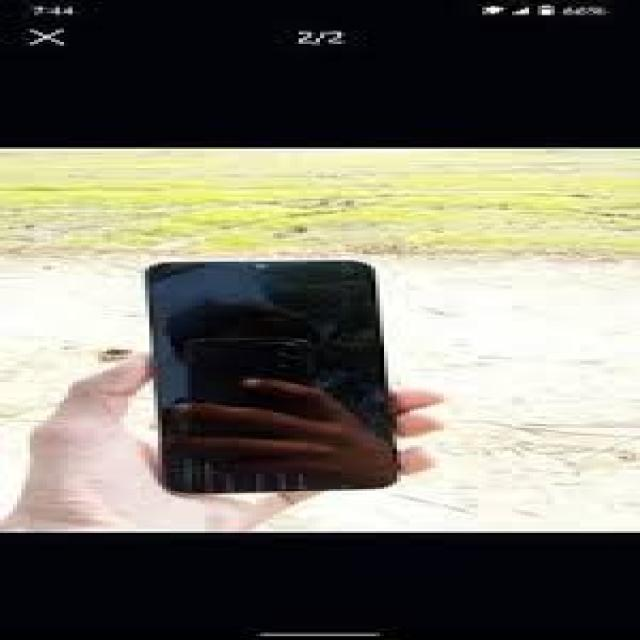mobile phone: (141, 258, 397, 493)
